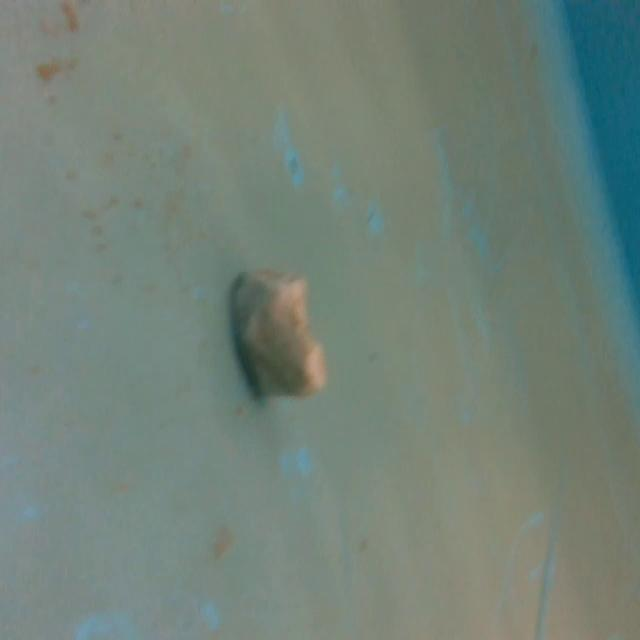rock: (230, 261, 324, 404)
